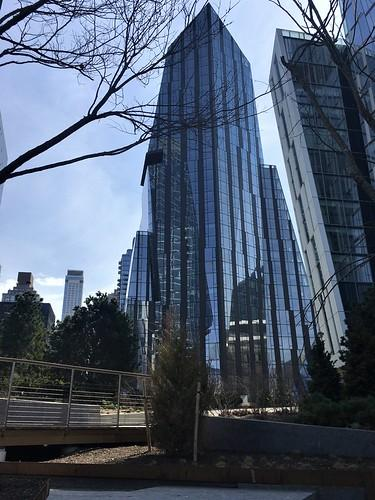building: (130, 3, 276, 422)
